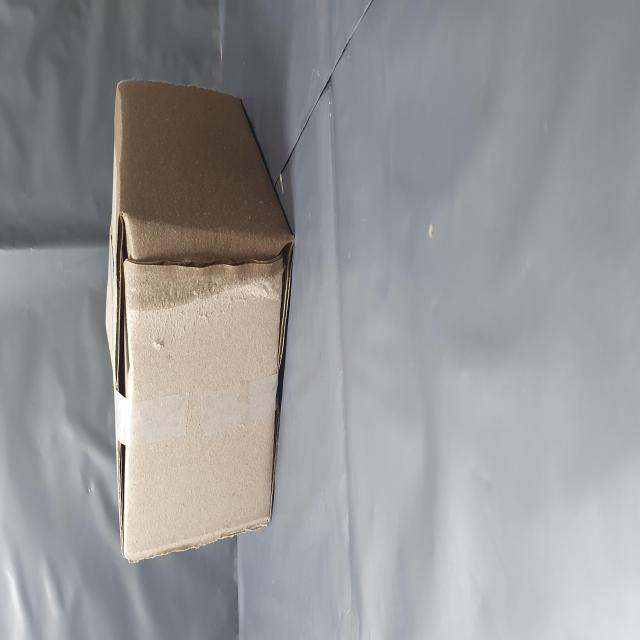wet: (193, 192, 311, 479)
